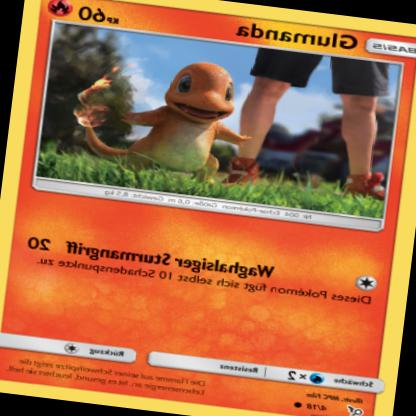Charmander: (73, 43, 259, 186)
